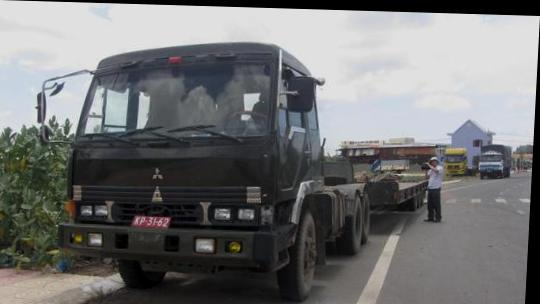License_Plate: (130, 214, 175, 232)
